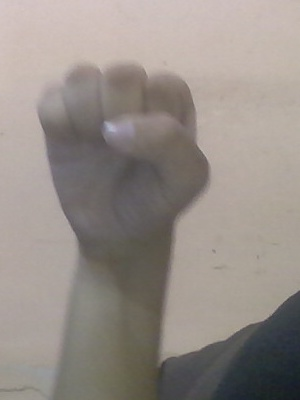S: (31, 51, 231, 292)
